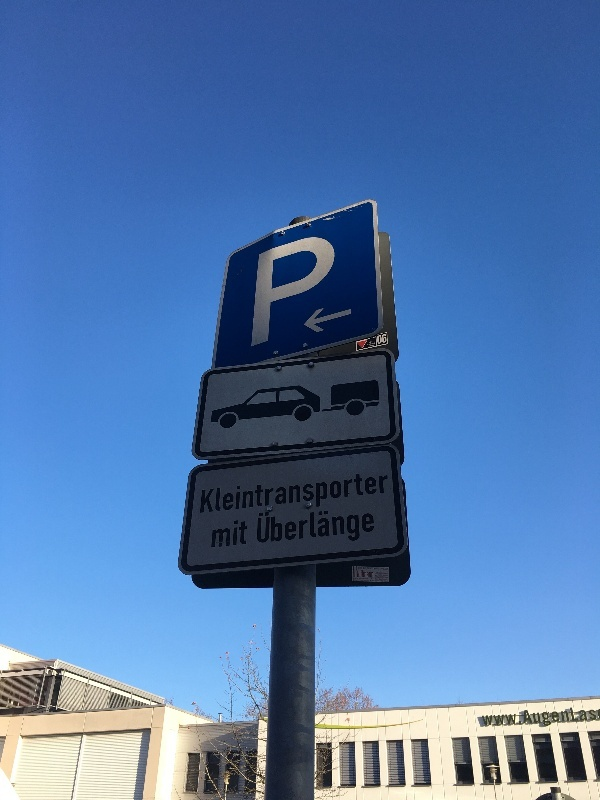text: (273, 227, 288, 349), (289, 227, 304, 349), (305, 227, 320, 349), (321, 227, 336, 349), (259, 227, 272, 349), (209, 470, 224, 516), (225, 470, 240, 516), (241, 470, 256, 516), (257, 470, 272, 516), (273, 470, 288, 516), (289, 470, 304, 516), (305, 470, 320, 516), (321, 470, 336, 516), (337, 470, 352, 516), (353, 470, 368, 516), (369, 470, 384, 516), (257, 508, 272, 545), (273, 508, 288, 545), (289, 508, 304, 545), (305, 508, 320, 545), (321, 508, 336, 545), (337, 508, 352, 545), (353, 508, 368, 545), (225, 519, 240, 550), (497, 705, 512, 728), (513, 705, 528, 728), (529, 705, 544, 728), (545, 705, 560, 728), (561, 705, 576, 728), (577, 705, 592, 728), (213, 519, 224, 550), (201, 470, 208, 516), (482, 705, 496, 728), (369, 508, 376, 545), (385, 470, 390, 516), (241, 519, 248, 550), (353, 566, 368, 578), (337, 227, 338, 349), (593, 705, 597, 728), (377, 334, 384, 345), (359, 570, 368, 578), (353, 577, 368, 580), (369, 341, 384, 344), (369, 570, 374, 578), (372, 328, 384, 331), (369, 336, 376, 341), (597, 709, 600, 720), (375, 572, 384, 575), (375, 574, 384, 577), (375, 576, 384, 579), (375, 567, 384, 570), (355, 580, 368, 582), (385, 334, 387, 345), (373, 580, 384, 582), (375, 578, 384, 580), (369, 343, 375, 346), (369, 345, 375, 348), (359, 578, 368, 580), (375, 580, 384, 582), (359, 567, 368, 569), (363, 567, 368, 570), (369, 567, 374, 570), (379, 567, 384, 570), (385, 572, 389, 575), (385, 574, 389, 577), (385, 576, 389, 579), (385, 567, 389, 570), (385, 578, 389, 580), (385, 580, 389, 582), (367, 343, 368, 346)
